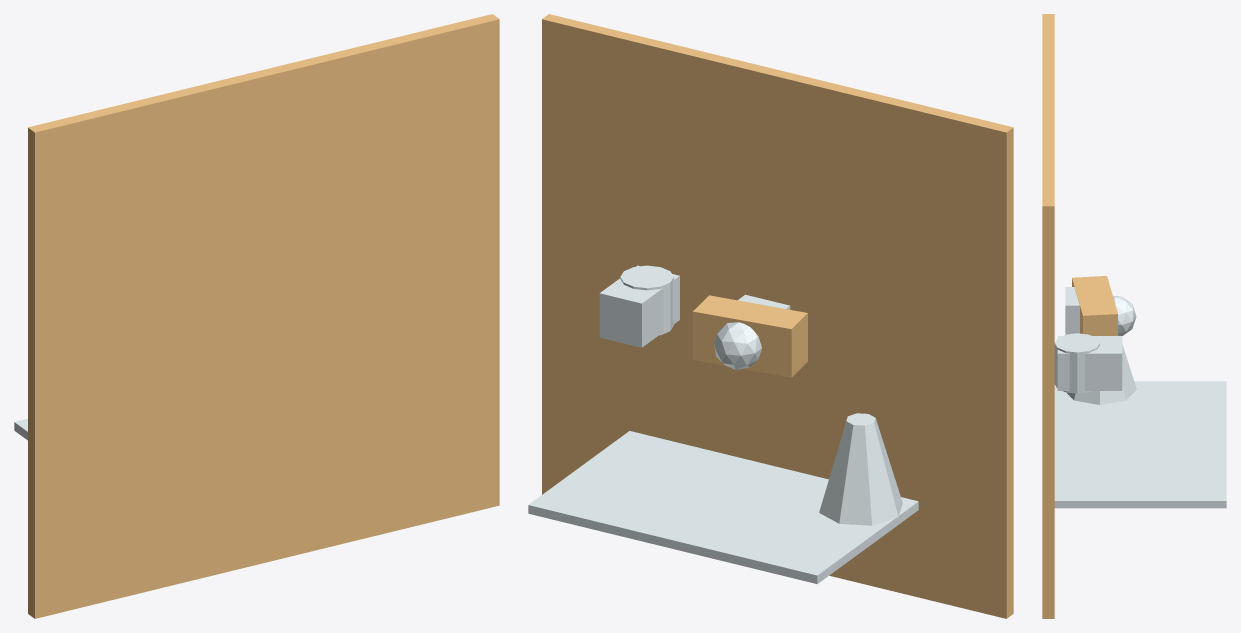
File: home-run-derby-kit.glb
The picture shows the model from 3 angles, left to right: view 1: azimuth 30°, elevation 25°; view 2: azimuth 150°, elevation 25°; view 3: azimuth 270°, elevation 25°; orthographic projection. The views are drawn at different scales.
Parts seen in each view (by area): view 1: ENVIRONMENT_GROUND; view 2: ENVIRONMENT_GROUND, ENVIRONMENT_GATE, PROFILE_ENVIRONMENT_DETAIL, PLAYER_BODY, PROFILE_OBSTACLE_DETAIL, PLAYER_CORE, OBSTACLE; view 3: ENVIRONMENT_GATE, ENVIRONMENT_GROUND, PROFILE_OBSTACLE_DETAIL, PLAYER_BODY, OBSTACLE, PROFILE_ENVIRONMENT_DETAIL, PROFILE_PLAYER_DETAIL, PLAYER_CORE.
Part boxes in pixels (<box>): ENVIRONMENT_GROUND: <box>28,14,499,618</box>; ENVIRONMENT_GROUND: <box>542,14,1013,618</box>; ENVIRONMENT_GATE: <box>528,431,918,584</box>; PROFILE_ENVIRONMENT_DETAIL: <box>819,413,902,525</box>; PLAYER_BODY: <box>692,295,807,377</box>; PROFILE_OBSTACLE_DETAIL: <box>599,265,679,347</box>; PLAYER_CORE: <box>714,322,761,369</box>; OBSTACLE: <box>620,265,673,335</box>; ENVIRONMENT_GATE: <box>1054,381,1226,508</box>; ENVIRONMENT_GROUND: <box>1042,14,1054,618</box>; PROFILE_OBSTACLE_DETAIL: <box>1057,336,1122,390</box>; PLAYER_BODY: <box>1072,276,1117,335</box>; OBSTACLE: <box>1054,333,1099,393</box>; PROFILE_ENVIRONMENT_DETAIL: <box>1067,344,1136,404</box>; PROFILE_PLAYER_DETAIL: <box>1065,287,1079,334</box>; PLAYER_CORE: <box>1113,296,1136,335</box>.
Size of what is drawn, in the model's own units: 9 by 9 by 3.64.
